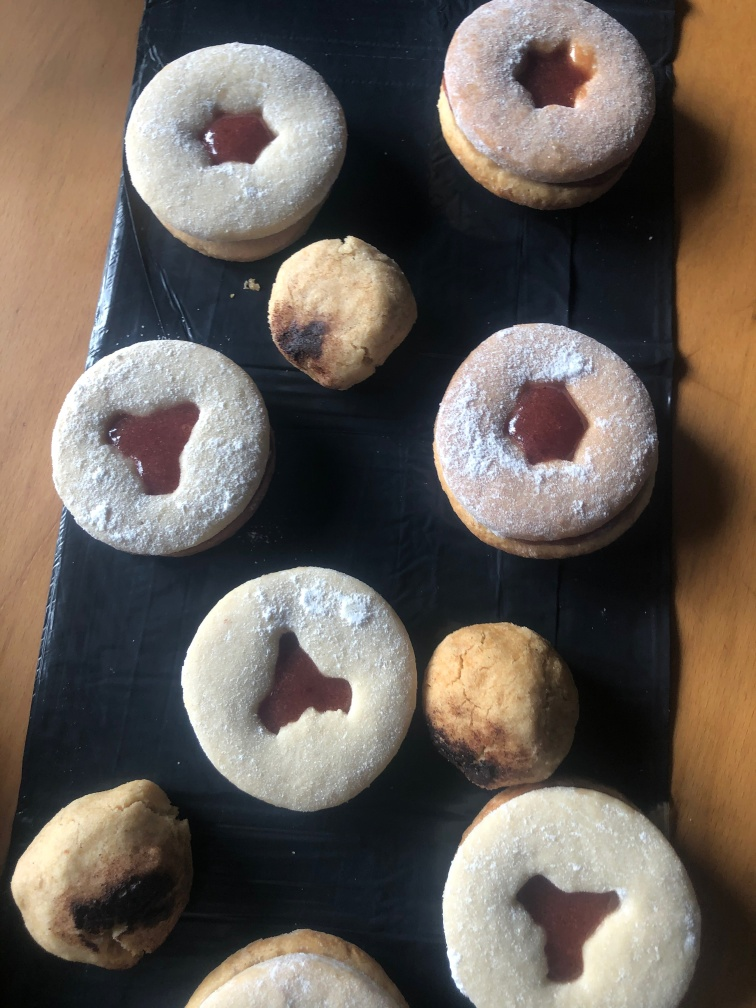christmas shortbread with jam: (184, 558, 419, 817), (445, 787, 704, 1008), (429, 317, 664, 559), (123, 39, 345, 263), (435, 3, 666, 217), (46, 336, 267, 543)
snowball: (15, 774, 208, 975), (260, 244, 426, 394), (427, 618, 562, 773)
